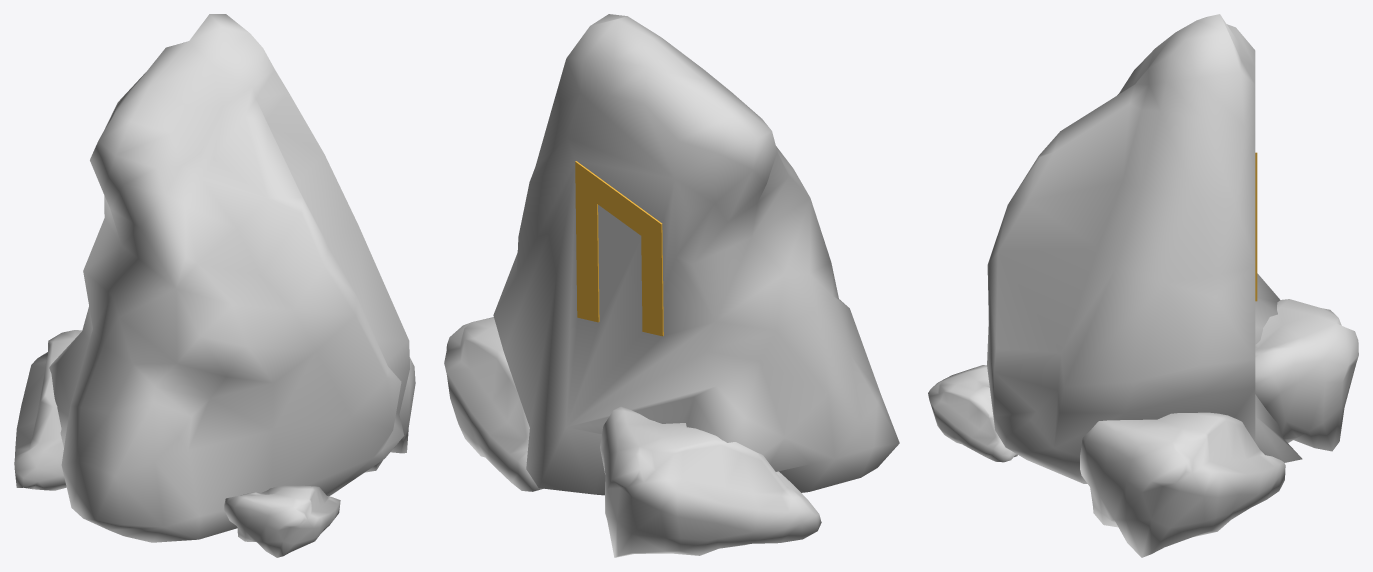
Rendered from Uruz.fbx.
The picture shows the model from 3 angles, left to right: view 1: azimuth 30°, elevation 25°; view 2: azimuth 150°, elevation 25°; view 3: azimuth 270°, elevation 25°; orthographic projection. The views are drawn at different scales.
Visible parts, largest first — view 1: stone; view 2: stone, Uruz; view 3: stone.
Part boxes in pixels (x1,y1,x2,y2): stone: [14, 14, 415, 557]; stone: [444, 14, 899, 557]; Uruz: [575, 161, 663, 336]; stone: [928, 14, 1358, 557].
Size of the model in its own units: 155 by 181 by 152.
